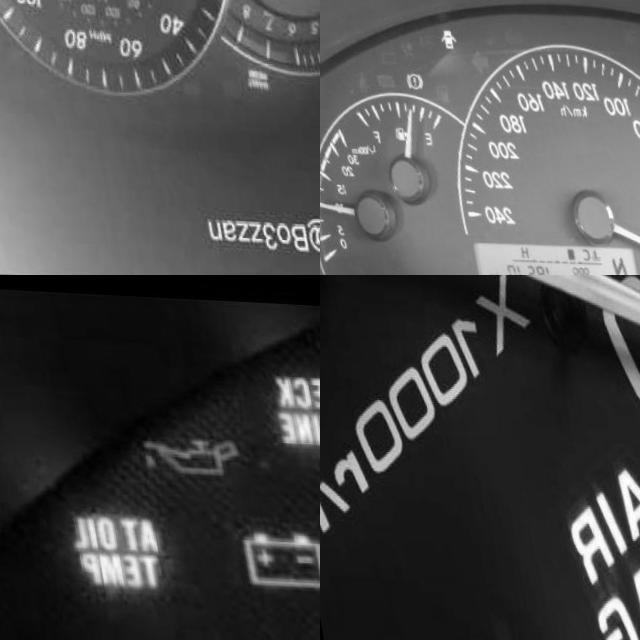Seat Belt: (432, 27, 452, 50)
